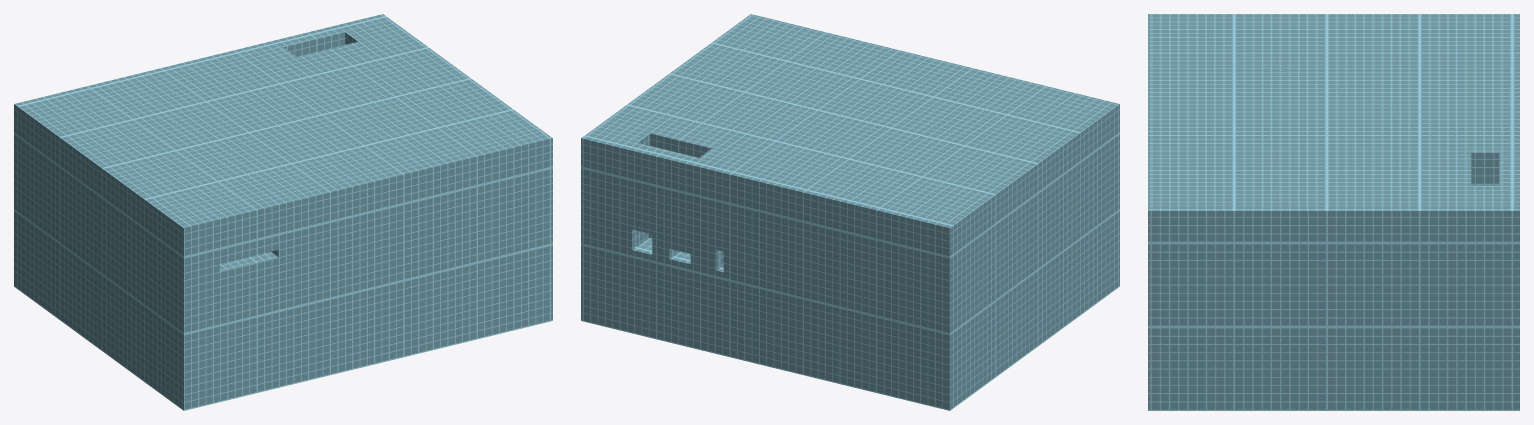
The model's file is world.dae.
The picture shows the model from 3 angles, left to right: view 1: azimuth 30°, elevation 25°; view 2: azimuth 150°, elevation 25°; view 3: azimuth 270°, elevation 25°; orthographic projection. The views are drawn at different scales.
Parts seen in each view (by area): view 1: SketchUp (×3); view 2: SketchUp (×2); view 3: SketchUp (×2).
Boxes of the visible parts, left/top/right/bottom form: SketchUp (×3): left=14, top=14, right=552, bottom=410; SketchUp (×2): left=581, top=14, right=1119, bottom=410; SketchUp (×2): left=1148, top=14, right=1519, bottom=410.
Size of the model in its own units: 198 by 158 by 93.7.
Materials: 1 (1 with a texture image).
